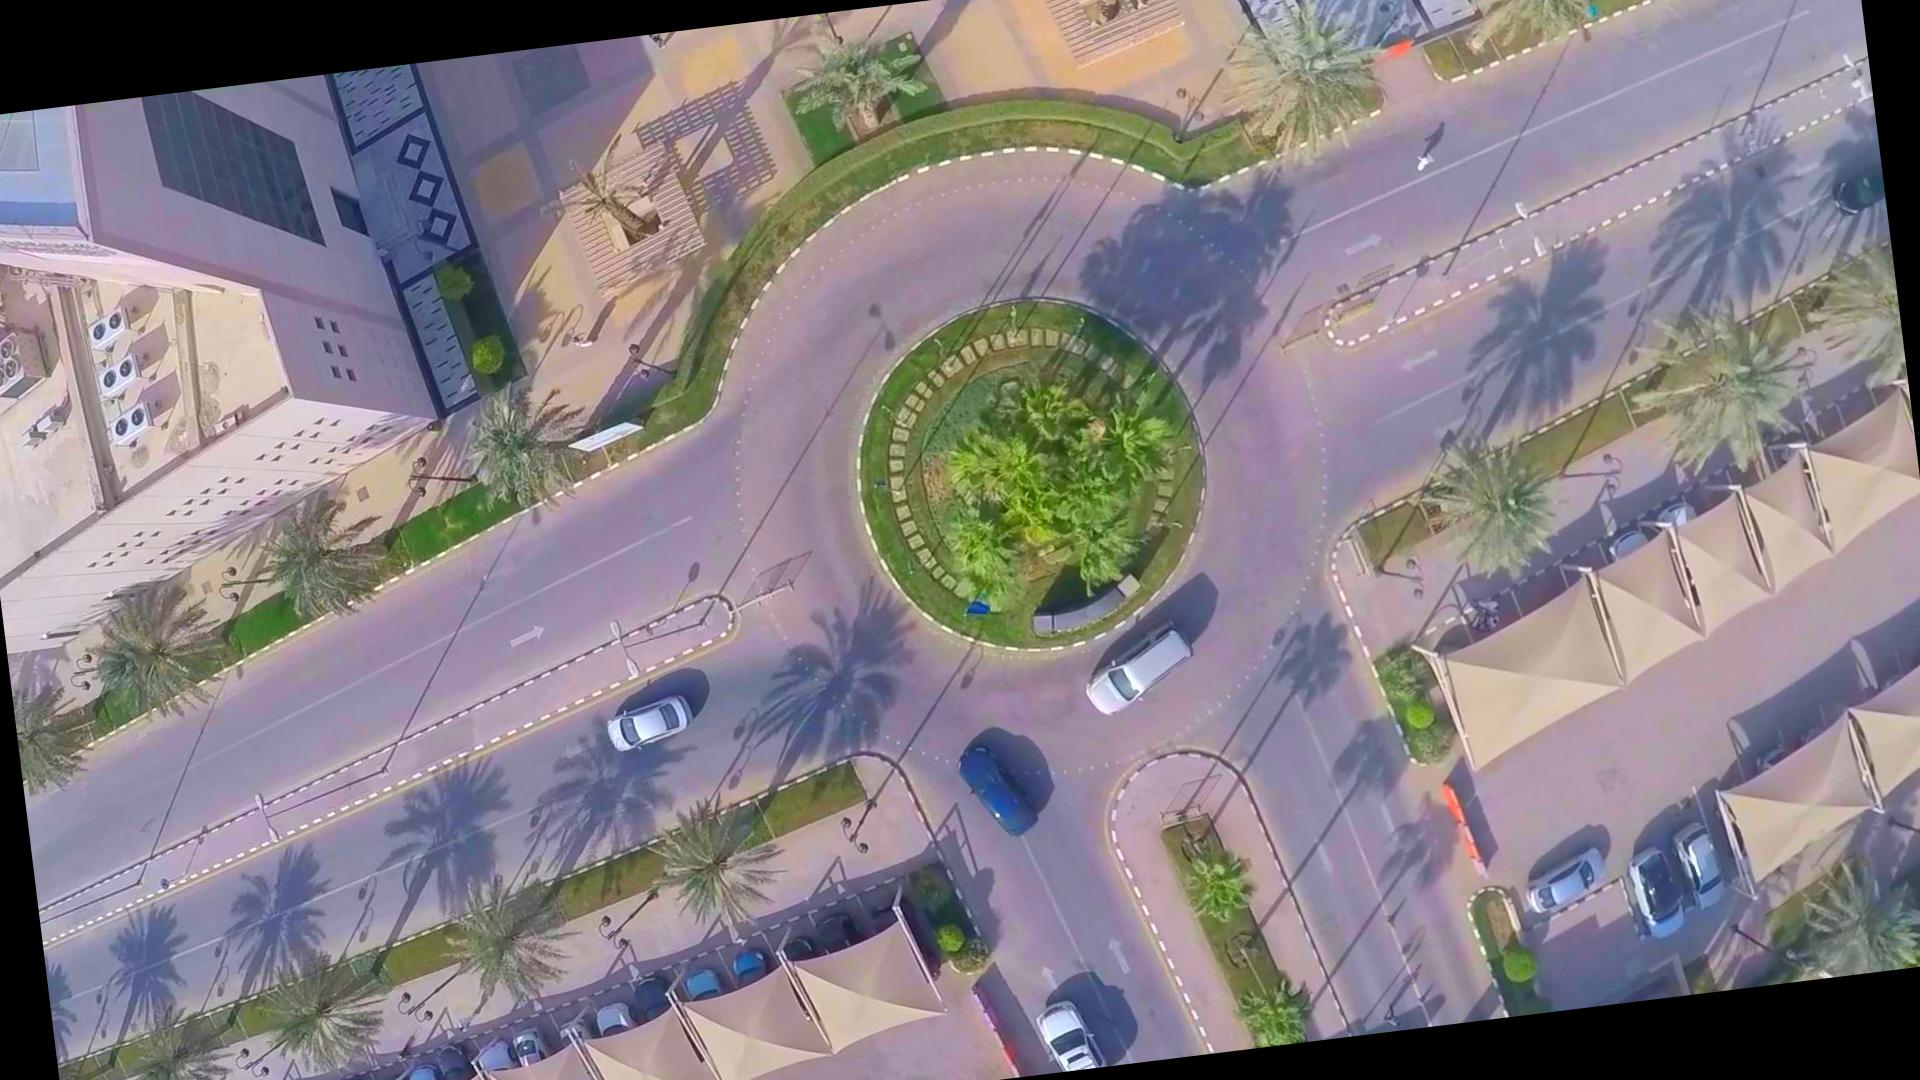vehicle: (1076, 613, 1209, 732), (955, 728, 1052, 855), (583, 698, 695, 778), (1825, 173, 1887, 229)
